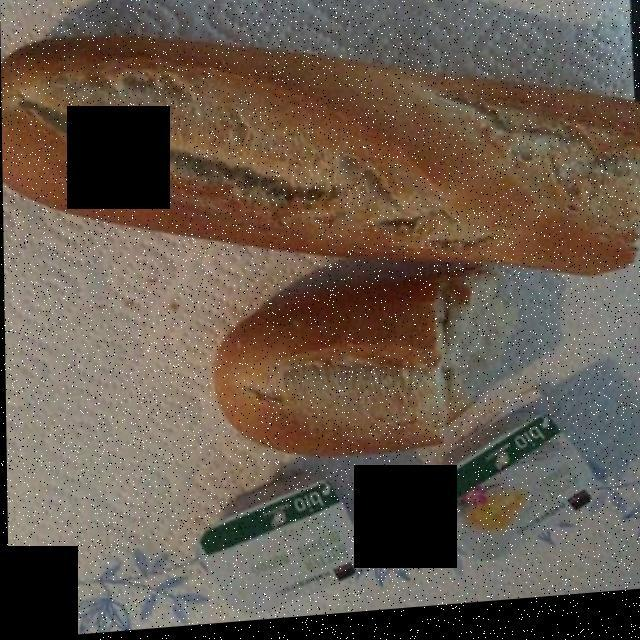bread: (14, 31, 621, 460)
